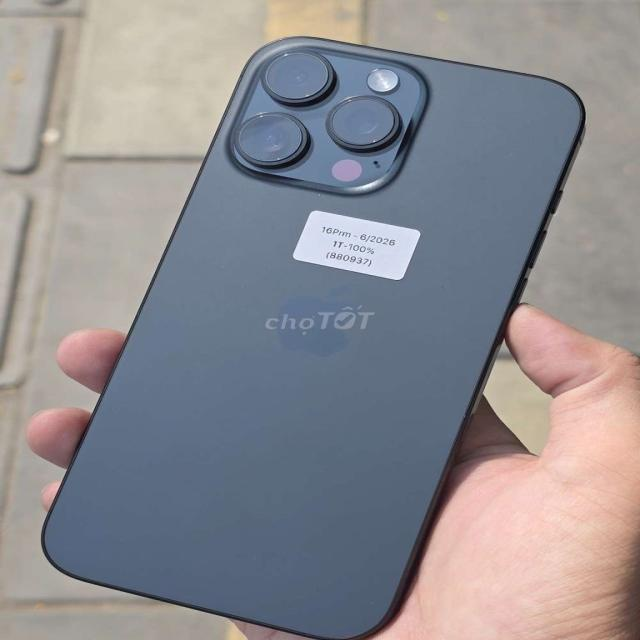gen_16: (41, 38, 583, 639)
